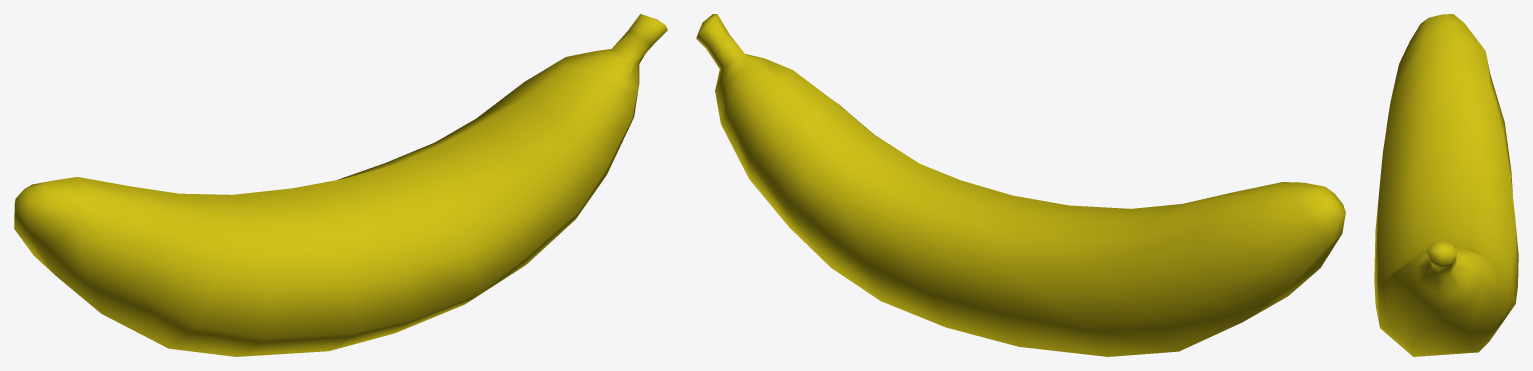
The model's file is Platano_LP.FBX.
3 renders of one model, left to right at view 1: azimuth 30°, elevation 25°; view 2: azimuth 150°, elevation 25°; view 3: azimuth 270°, elevation 25°, orthographic. The views are drawn at different scales.
Parts seen in each view (by area): view 1: Platano_LP; view 2: Platano_LP; view 3: Platano_LP.
Part boxes in pixels (box(x1,y1,x2,y2)): Platano_LP: box(14, 14, 667, 356); Platano_LP: box(696, 14, 1345, 356); Platano_LP: box(1374, 14, 1518, 356).
Bounding box in the file's own units: 57.16 × 13.21 × 20.41.
